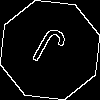J: (25, 25, 69, 77)
